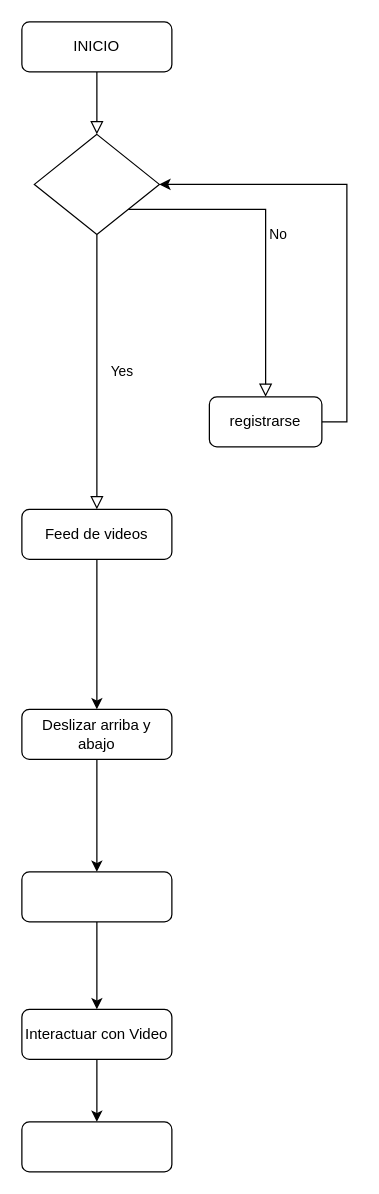
This 379x1194 diagram has some shape labels left out. Each missing label, with the box of its shape:
Cerrar aplicacion: (21, 1121, 172, 1172)
inicio de sesion: (33, 133, 159, 234)
reproducir video: (21, 871, 172, 922)
